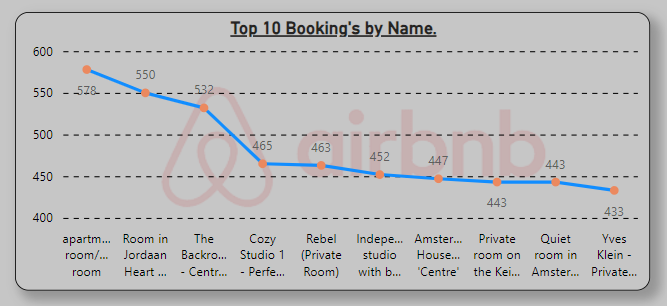

This screenshot's page, from the dashboard's own definition file:
{"tool":"powerbi","page":{"name":"Top 10 Booking's by Name.","canvas":[1280,720],"ordinal":1},"visuals":[{"type":"lineChart","title":"Top 10 Booking''s by Name.","fields":{"Category":["airbnb_updated.name"],"Y":["Sum(airbnb_updated.reviews)"]},"box":[333.2,226.2,612.9,268.7],"z":0}]}

Visuals, with their boxes on the page's 1280x720 design canvas (x1, y1, x2, y2). These are canvas units, not pixel positions in the 667x306 screenshot, which may show the page scaled, cropped or inside an application window:
"Top 10 Booking''s by Name." lineChart: l=333, t=226, r=946, b=495
